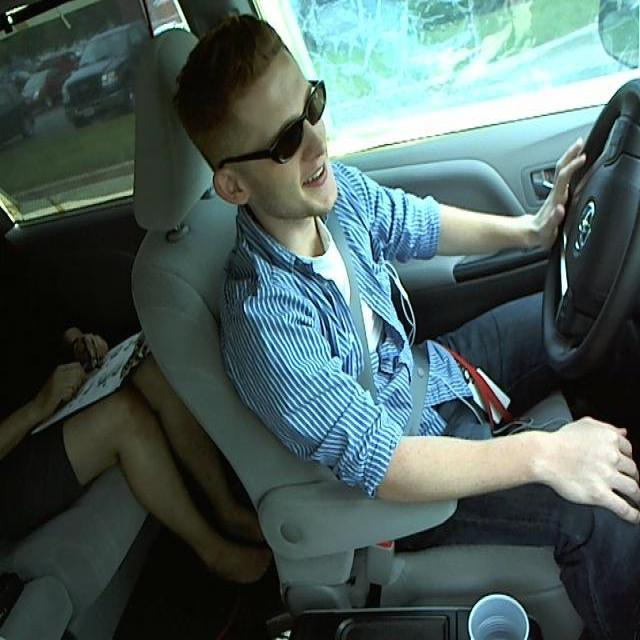seatbelt: (327, 216, 441, 433)
